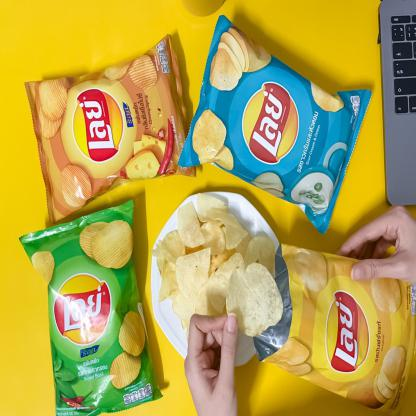potatochip: (177, 15, 374, 240), (24, 31, 196, 229), (19, 200, 166, 416), (256, 242, 416, 416)
